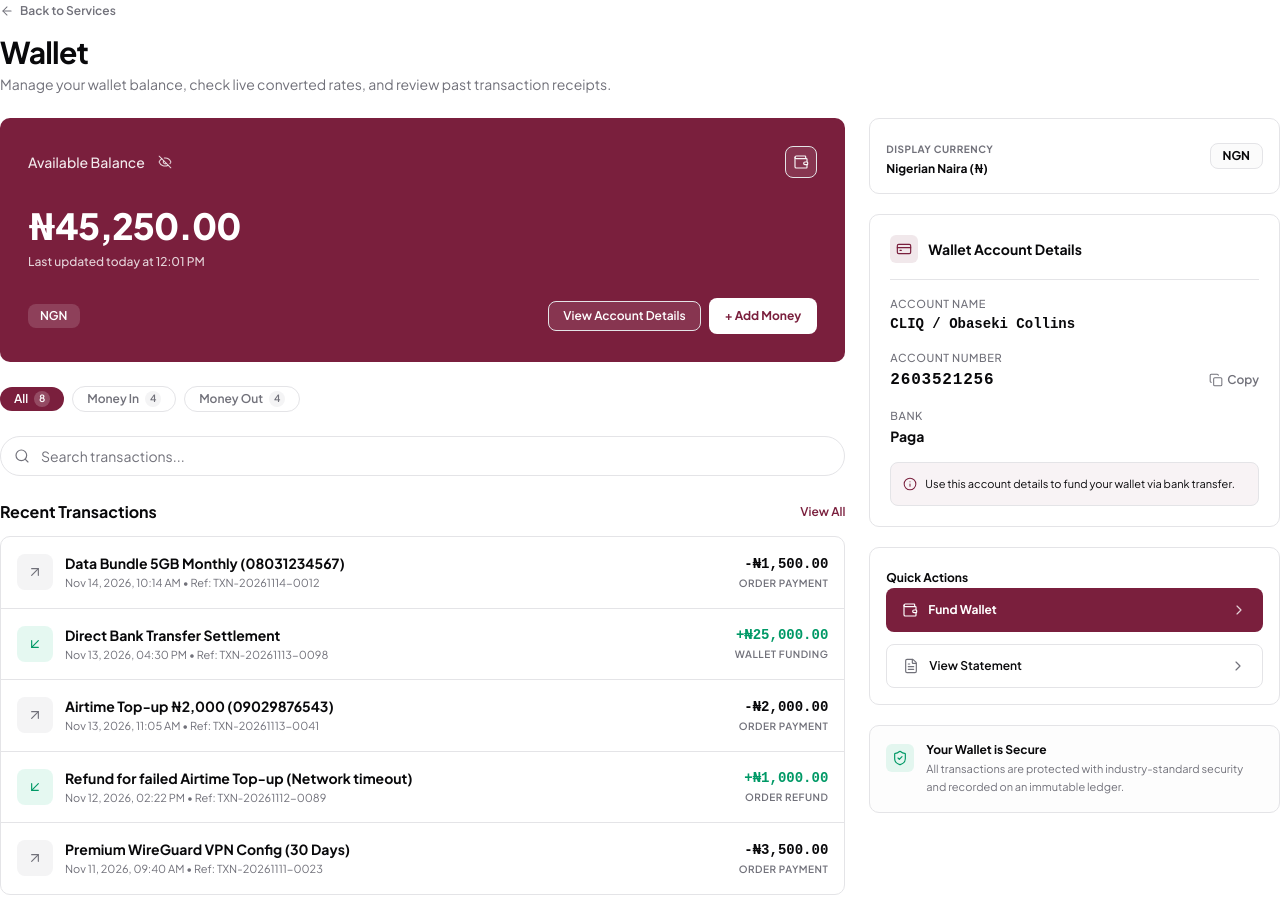
Test case: WalletView Component › opens fund wallet modal when clicking Add Money
This screenshot has width=1280, height=900.
Click the button "+ Add Money" at x=763, y=316, box top-left (709, 298), bottom-right (817, 334)
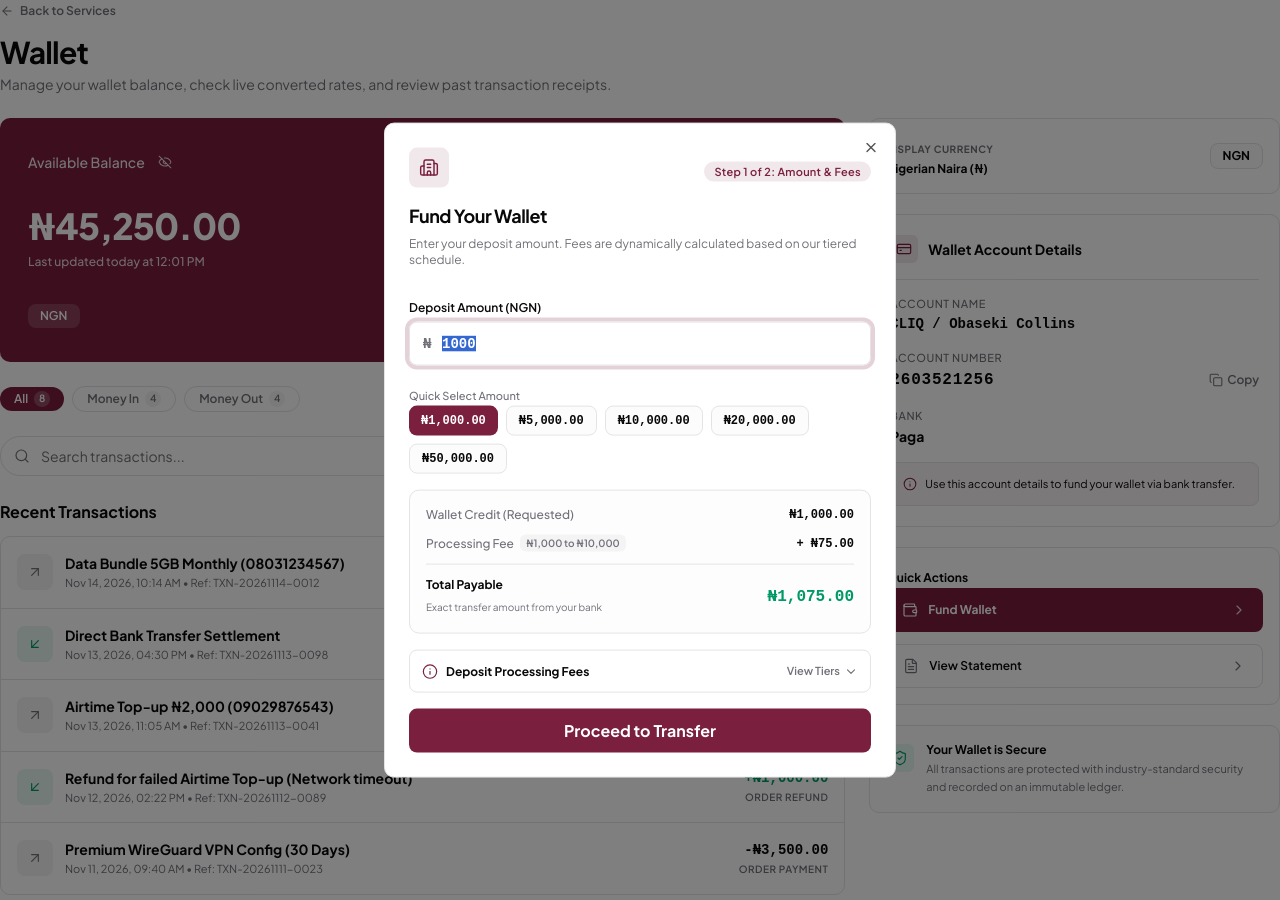
Now the heading "Fund Your Wallet" is shown, box top-left (409, 204), bottom-right (547, 227)
